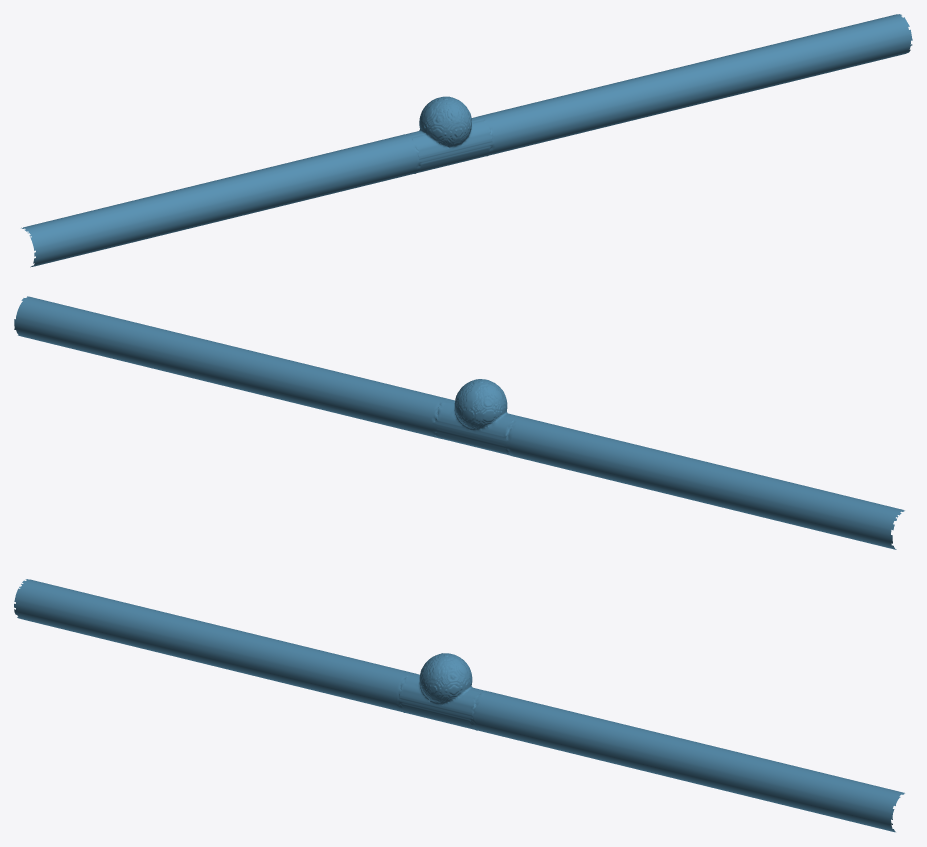
Rendered from PT-2026-0103-osi.glb.
The picture shows the model from 3 angles, top to bottom: view 1: azimuth 30°, elevation 25°; view 2: azimuth 150°, elevation 25°; view 3: azimuth 330°, elevation 25°; orthographic projection.
Parts seen in each view (by area): view 1: geometry_0; view 2: geometry_0; view 3: geometry_0.
Part boxes in pixels (x1,y1,x2,y2): geometry_0: (21, 14, 912, 267); geometry_0: (14, 296, 904, 549); geometry_0: (14, 579, 904, 832).
Size of the model in its own units: 2 by 0.1412 by 0.1041.
